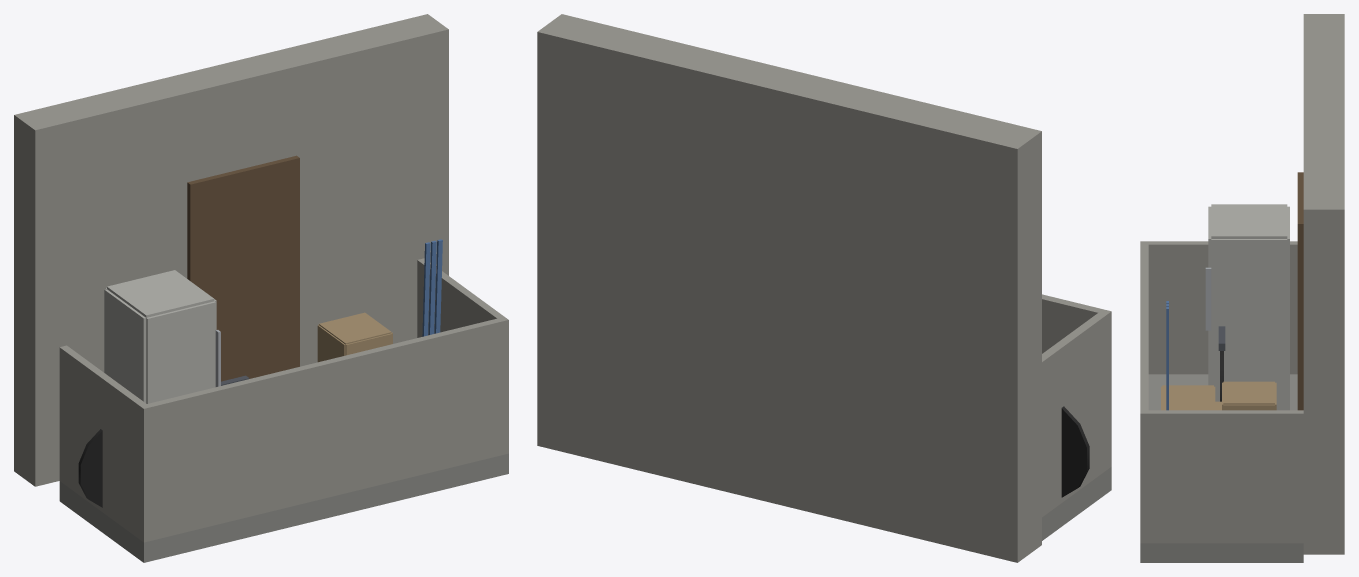
The model's file is balcony_junk.glb.
3 renders of one model, left to right at view 1: azimuth 30°, elevation 25°; view 2: azimuth 150°, elevation 25°; view 3: azimuth 270°, elevation 25°, orthographic. The views are drawn at different scales.
Parts seen in each view (by area): view 1: wall, rail_front, door_closed_panel, old_fridge, rail_side, slab, rail_side.001, cardboard_box.001, wheel; view 2: wall, rail_side, rail_front, wheel, slab; view 3: wall, rail_side.001, old_fridge, rail_side, slab, rail_front, door_closed_panel, cardboard_box.001, cardboard_box.003, cardboard_box.002, fridge_handle, ski.002.
Boxes of the visible parts, x1,y1,x2,y2 form: wall: (14,14,448,486); rail_front: (139,318,508,540); door_closed_panel: (187,155,299,381); old_fridge: (104,270,216,403); rail_side: (59,345,150,542); slab: (59,453,508,562); rail_side.001: (417,258,508,454); cardboard_box.001: (317,312,392,362); wheel: (78,429,102,507); wall: (537,14,1041,562); rail_side: (1042,309,1110,517); rail_front: (1042,294,1111,469); wheel: (1061,406,1089,497); slab: (1042,467,1111,540); wall: (1303,14,1344,554); rail_side.001: (1140,410,1303,543); old_fridge: (1208,204,1289,410); rail_side: (1140,241,1297,374); slab: (1140,374,1303,562); rail_front: (1140,241,1148,543); door_closed_panel: (1297,172,1303,410); cardboard_box.001: (1222,381,1276,410); cardboard_box.003: (1161,385,1215,402); cardboard_box.002: (1161,401,1221,410); fridge_handle: (1205,267,1211,330); ski.002: (1166,306,1168,410).
Size of what is drawn, in the model's own units: 3.4 by 2.96 by 1.5.
